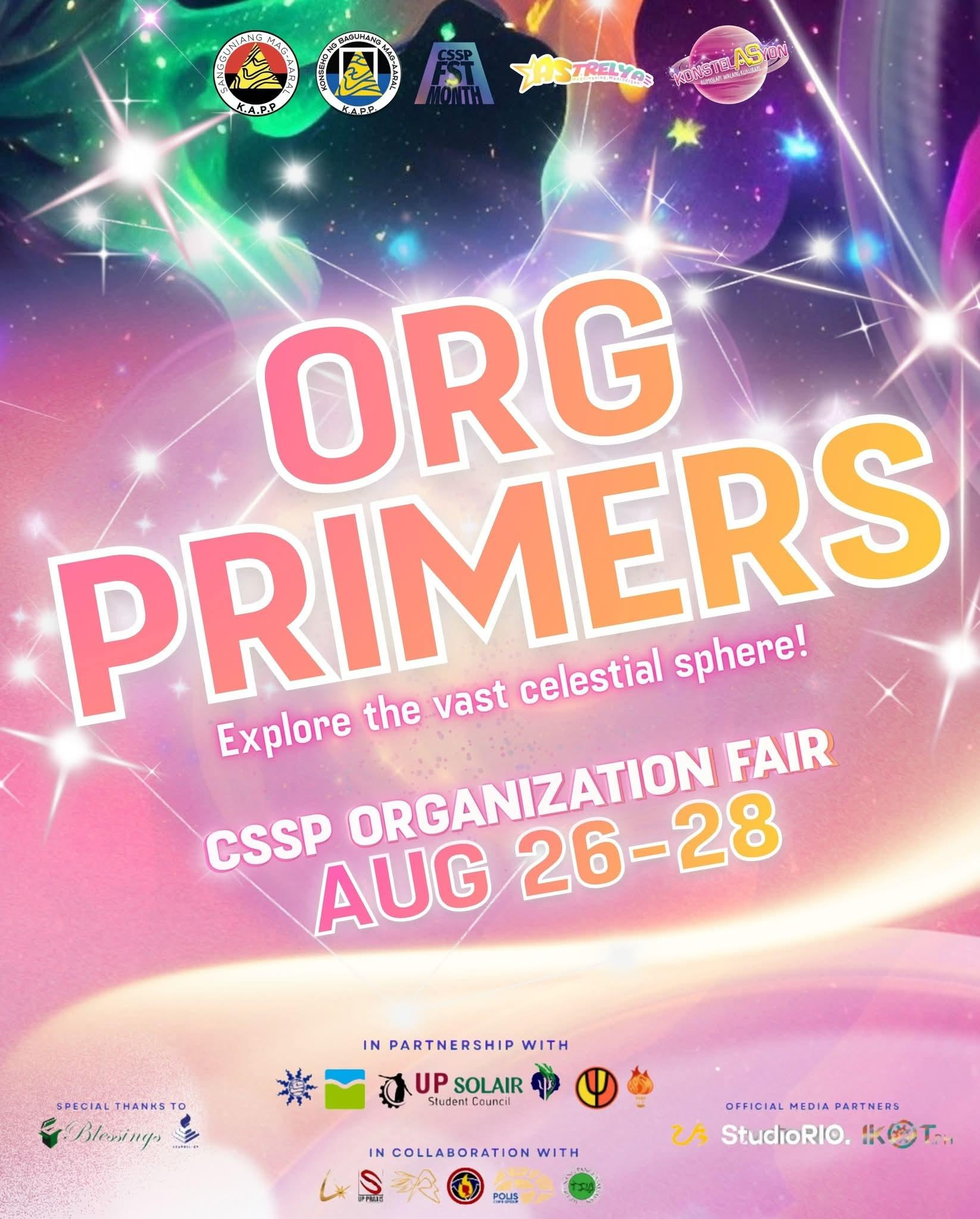logo: (276, 1060, 661, 1116), (313, 1163, 609, 1214), (667, 23, 800, 110), (665, 1116, 964, 1154), (311, 27, 405, 119), (506, 46, 658, 102), (211, 25, 302, 118), (34, 1113, 215, 1156), (410, 36, 503, 112)
text: (24, 252, 965, 744), (194, 711, 850, 945), (201, 612, 820, 772), (353, 1031, 572, 1059), (364, 1139, 589, 1162), (719, 1098, 908, 1116), (47, 1096, 197, 1116)
